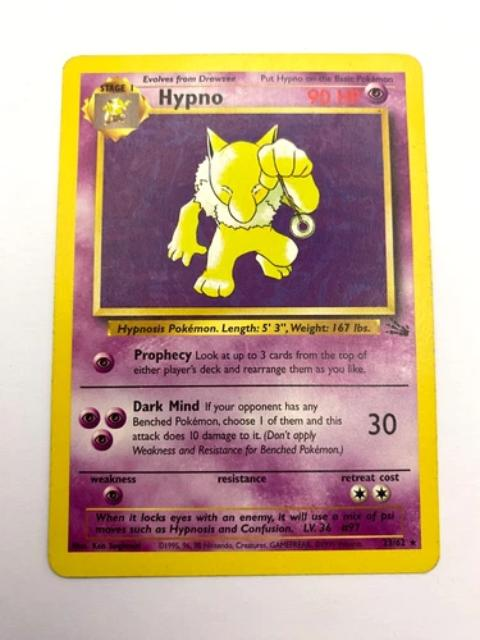Card: (44, 45, 443, 580)
Name: (151, 83, 228, 110)
